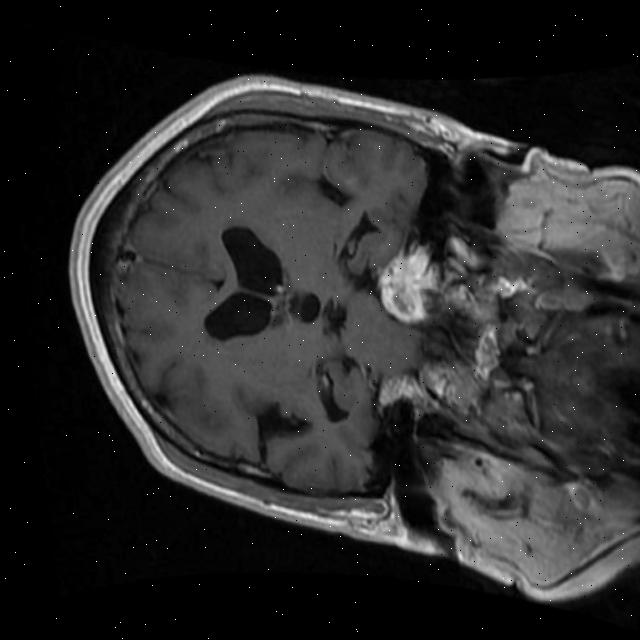Meningioma: (371, 236, 446, 326)
